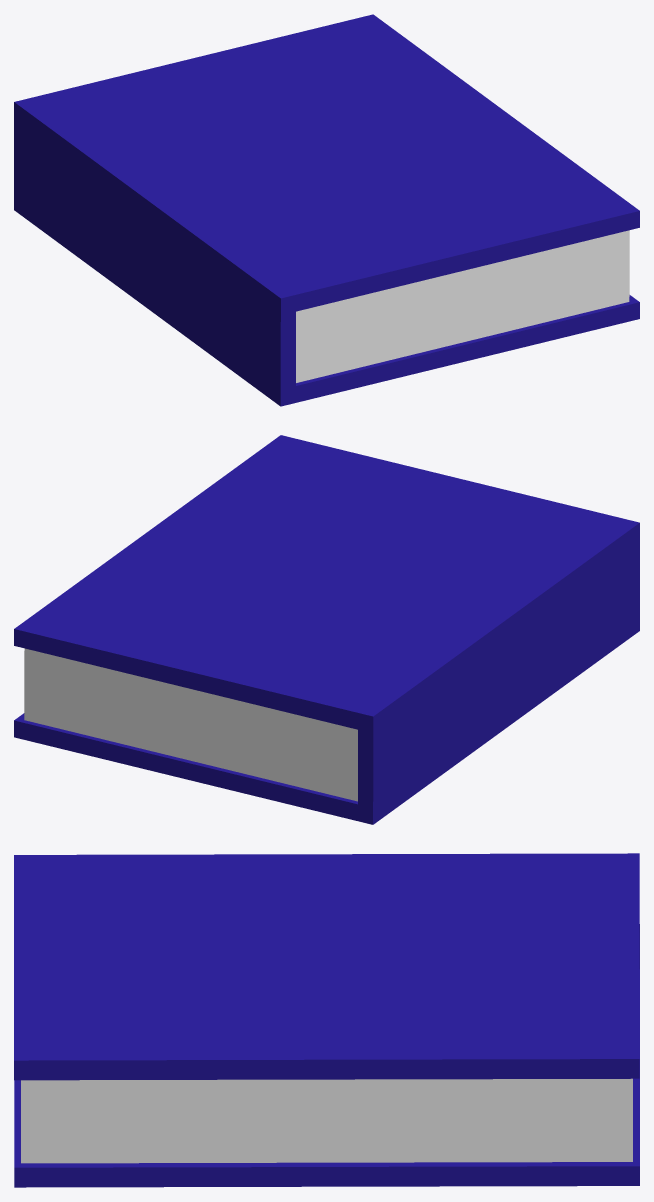
File: Blue Book.fbx
3 views of the same model, one above another, from view 1: azimuth 30°, elevation 25°; view 2: azimuth 150°, elevation 25°; view 3: azimuth 270°, elevation 25° (orthographic). The views are drawn at different scales.
Parts seen in each view (by area): view 1: Red_Book1; view 2: Red_Book1; view 3: Red_Book1.
Boxes of the visible parts, x1,y1,x2,y2 form: Red_Book1: (14,14,639,406); Red_Book1: (14,435,639,824); Red_Book1: (14,853,639,1187).
Size of the model in its own units: 1 by 0.2915 by 1.29.
